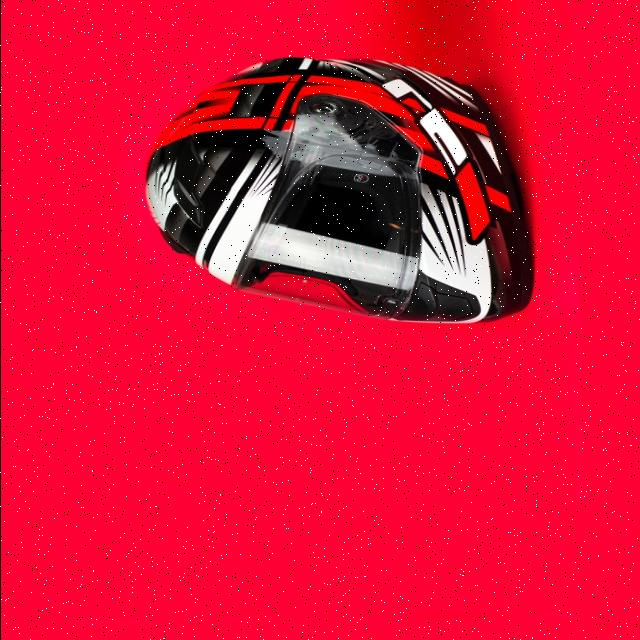Helmet: (144, 58, 528, 322)
